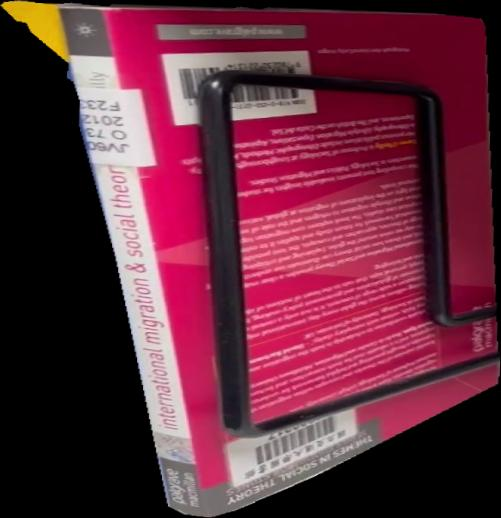reverse: (1, 1, 501, 518)
